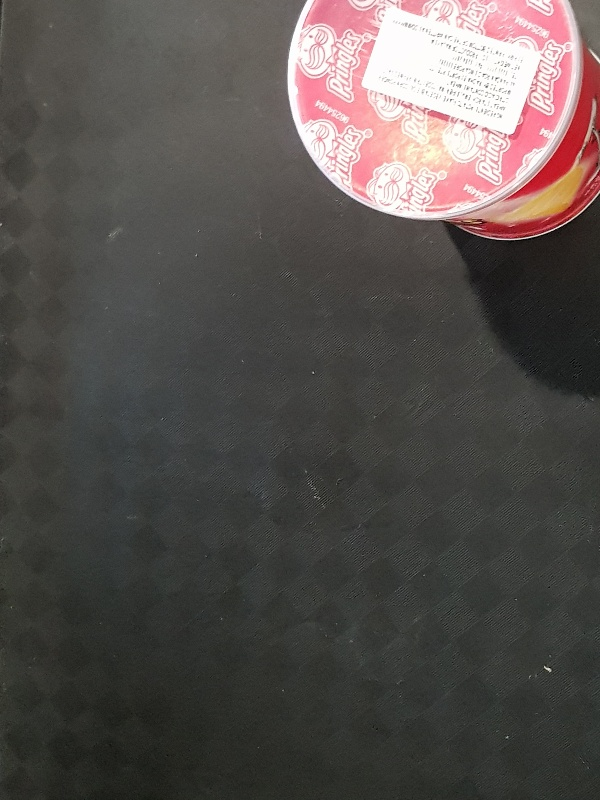Pringles Original: (285, 1, 600, 241)
